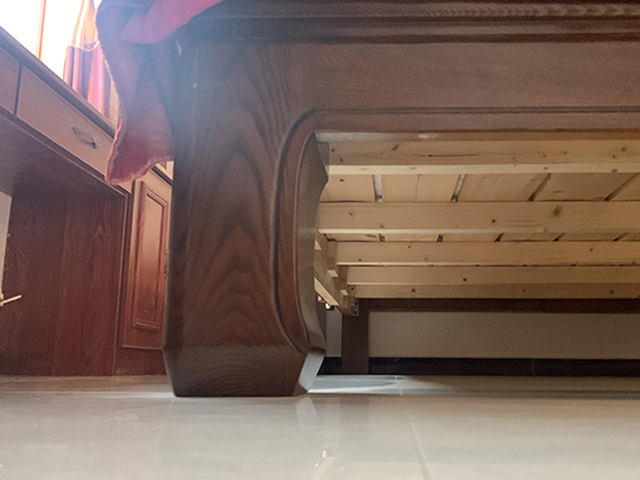bed: (95, 1, 640, 398)
cabinet: (1, 26, 170, 376)
